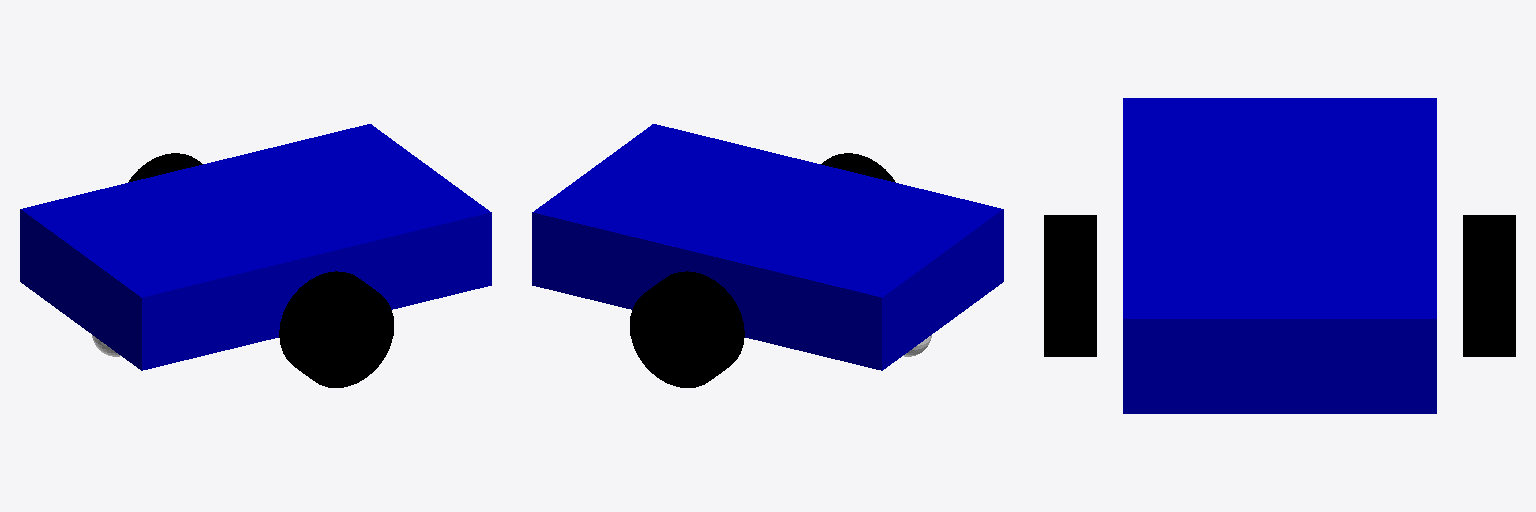
URDF robot description (c_ros_bot):
<?xml version="1.0"?>
<robot name="c_ros_bot">

  <material name="blue">
    <color rgba="0 0 0.8 1"/>
  </material>
  <material name="black">
    <color rgba="0 0 0 1"/>
  </material>
  <material name="white">
    <color rgba="1 1 1 1"/>
  </material>

  <link name="base_footprint"/>

  <link name="base_link">
    <visual>
      <origin xyz="0 0 0.05" rpy="0 0 0"/>
      <geometry>
        <box size="0.25 0.15 0.05"/>
      </geometry>
      <material name="blue"/>
    </visual>
  </link>

  <joint name="base_joint" type="fixed">
    <parent link="base_link"/>
    <child link="base_footprint"/>
    <origin xyz="0 0 0" rpy="0 0 0"/>
  </joint>

  <link name="left_wheel">
    <visual>
      <origin xyz="0 0 0" rpy="1.5708 0 0"/>
      <geometry>
        <cylinder radius="0.034" length="0.025"/>
      </geometry>
      <material name="black"/>
    </visual>
  </link>

  <joint name="left_wheel_joint" type="continuous">
    <parent link="base_link"/>
    <child link="left_wheel"/>
    <origin xyz="0 0.10 0.034" rpy="0 0 0"/>
    <axis xyz="0 1 0"/>
  </joint>

  <link name="right_wheel">
    <visual>
      <origin xyz="0 0 0" rpy="1.5708 0 0"/>
      <geometry>
        <cylinder radius="0.034" length="0.025"/>
      </geometry>
      <material name="black"/>
    </visual>
  </link>

  <joint name="right_wheel_joint" type="continuous">
    <parent link="base_link"/>
    <child link="right_wheel"/>
    <origin xyz="0 -0.10 0.034" rpy="0 0 0"/>
    <axis xyz="0 1 0"/>
  </joint>

  <link name="caster_wheel">
    <visual>
      <origin xyz="0 0 0" rpy="0 0 0"/>
      <geometry>
        <sphere radius="0.015"/>
      </geometry>
      <material name="white"/>
    </visual>
  </link>

  <joint name="caster_wheel_joint" type="fixed">
    <parent link="base_link"/>
    <child link="caster_wheel"/>
    <origin xyz="-0.10 0 0.015" rpy="0 0 0"/>
  </joint>

</robot>

--- What the picture shows (computed from the rendered views, not written in the file) ---
The picture shows the robot from 3 angles, left to right: view 1: azimuth 30°, elevation 25°; view 2: azimuth 150°, elevation 25°; view 3: azimuth 270°, elevation 25°; orthographic projection.
Model c_ros_bot with 5 links and 4 joints (2 continuous, 2 fixed), rooted at base_link, posed all joints at 0.
Visible links, largest first — view 1: base_link, right_wheel, left_wheel; view 2: base_link, left_wheel, right_wheel; view 3: base_link, left_wheel, right_wheel.
Link boxes in pixels (x1,y1,x2,y2): base_link: (20, 124, 491, 370); right_wheel: (279, 271, 393, 387); left_wheel: (128, 153, 202, 182); base_link: (532, 124, 1003, 370); left_wheel: (630, 271, 744, 387); right_wheel: (821, 153, 895, 182); base_link: (1123, 98, 1436, 413); left_wheel: (1463, 215, 1515, 356); right_wheel: (1044, 215, 1096, 356).
Bounding box of the posed robot: 0.25 × 0.225 × 0.075 m (x, y, z).
Geometry: primitives only (box / cylinder / sphere), no mesh files.
